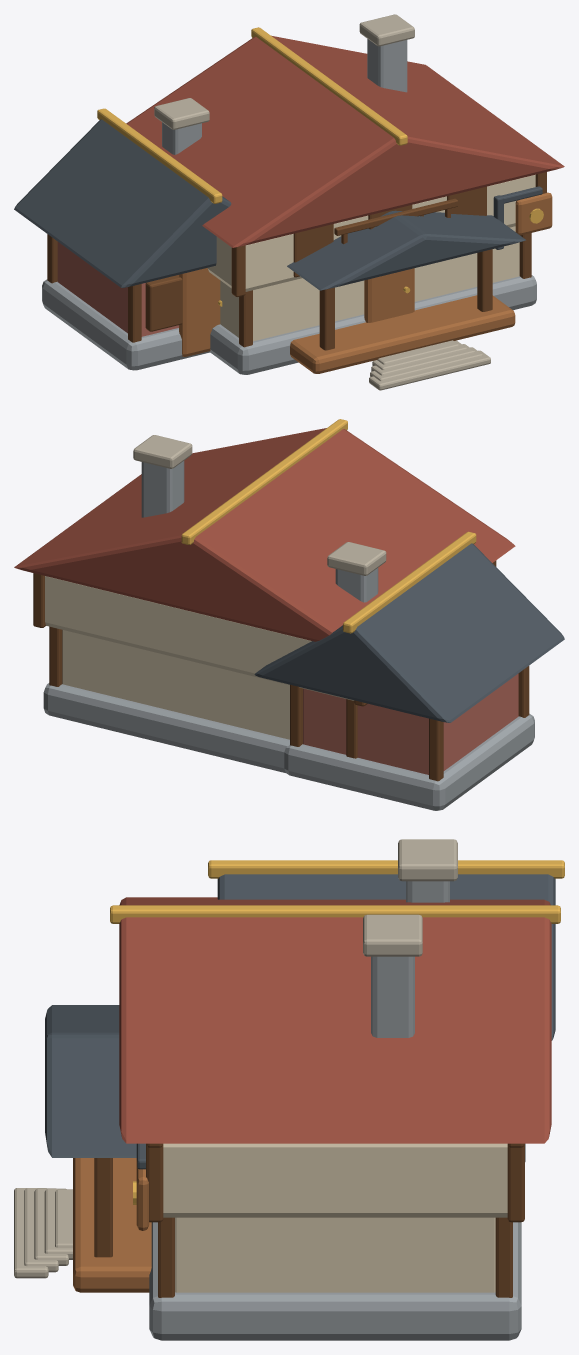
Rendered from RF_Building_Inn_V2.fbx.
The picture shows the model from 3 angles, top to bottom: view 1: azimuth 30°, elevation 25°; view 2: azimuth 150°, elevation 25°; view 3: azimuth 270°, elevation 25°; orthographic projection. The views are drawn at different scales.
Visible parts, largest first — view 1: Inn_Roof.001, InnWing_Roof.001, Inn_PorchRoof.001, Inn_Lower.001, Inn_Porch.001, Inn_Foundation.001, InnWing_Foundation.001, Inn_Upper.001, InnWing_Lower.001, InnWing_Door.001, Inn_Door.001, Inn_Ridge.001 (+22 smaller); view 2: Inn_Roof.001, InnWing_Roof.001, Inn_Lower.001, Inn_Upper.001, InnWing_Lower.001, InnWing_Foundation.001, Inn_Foundation.001, Inn_Ridge.001, Inn_Stack.001, InnWing_Ridge.001, InnWing_Cap.001, Inn_Cap.001 (+7 smaller); view 3: Inn_Roof.001, Inn_Upper.001, Inn_Lower.001, Inn_Foundation.001, Inn_PorchRoof.001, InnWing_Roof.001, Inn_Porch.001, Inn_Ridge.001, InnWing_Ridge.001, Inn_Stack.001, InnWing_Cap.001, Inn_Cap.001 (+12 smaller).
Part boxes in pixels (x1,y1,x2,y2): Inn_Roof.001: (126,35,564,247); InnWing_Roof.001: (14,119,231,287); Inn_PorchRoof.001: (287,210,525,290); Inn_Lower.001: (220,226,519,341); Inn_Porch.001: (290,295,515,373); Inn_Foundation.001: (210,275,536,374); InnWing_Foundation.001: (42,279,209,370); Inn_Upper.001: (207,174,535,291); InnWing_Lower.001: (57,242,178,336); InnWing_Door.001: (179,268,220,356); Inn_Door.001: (364,268,414,322); Inn_Ridge.001: (251,27,407,145); Inn_Roof.001: (14,428,515,641); InnWing_Roof.001: (254,543,564,722); Inn_Lower.001: (62,630,289,739); Inn_Upper.001: (45,576,354,700); InnWing_Lower.001: (303,673,518,774); InnWing_Foundation.001: (284,713,534,810); Inn_Foundation.001: (43,683,345,772); Inn_Ridge.001: (181,419,347,544); Inn_Stack.001: (141,461,184,517); InnWing_Ridge.001: (343,531,476,633); InnWing_Cap.001: (327,542,386,575); Inn_Cap.001: (133,435,192,468); Inn_Roof.001: (119,897,551,1143); Inn_Upper.001: (163,1143,507,1217); Inn_Lower.001: (175,1217,495,1292); Inn_Foundation.001: (149,1222,521,1340); Inn_PorchRoof.001: (45,1005,136,1157); InnWing_Roof.001: (217,874,555,1040); Inn_Porch.001: (73,1158,151,1292); Inn_Ridge.001: (110,905,560,923); InnWing_Ridge.001: (208,860,564,878); Inn_Stack.001: (371,956,414,1037); InnWing_Cap.001: (398,839,457,881); Inn_Cap.001: (363,914,422,956).
Bounding box in the file's own units: 9.15 × 7.01 × 5.16.
